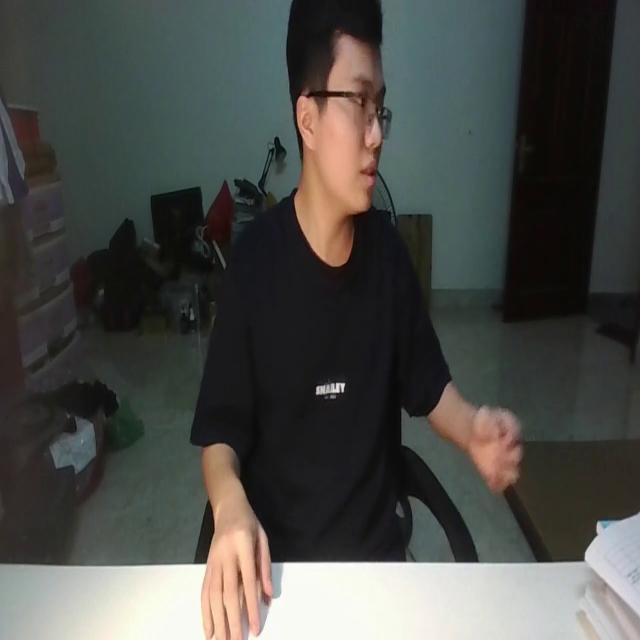student: (189, 0, 525, 640)
